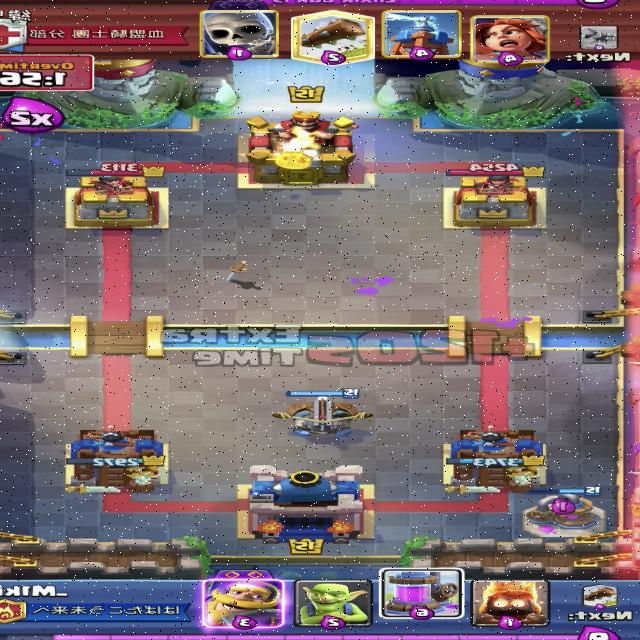Enemy-Fireball: (270, 139, 321, 170)
Player-ElixirPump: (520, 486, 608, 538)
Player-XBow: (270, 388, 372, 437)
